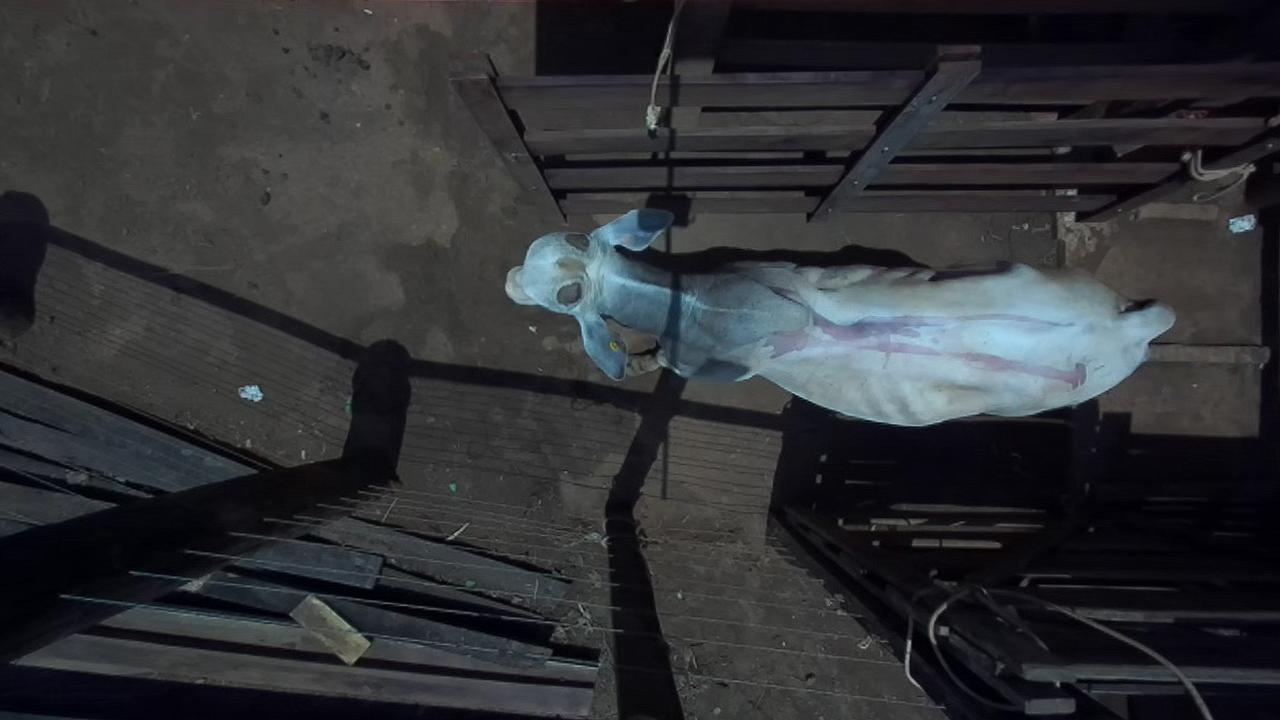cattle: (503, 205, 1177, 428)
